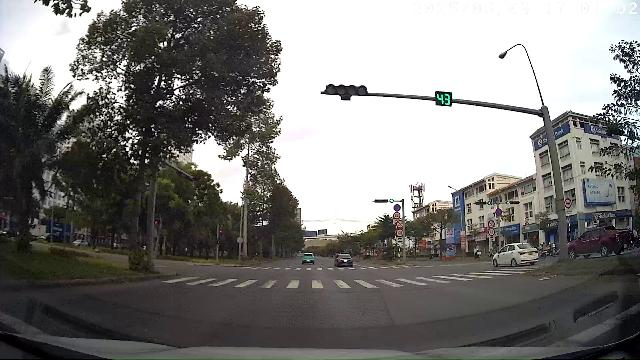127-toc-do-toi-da-60: (396, 230, 404, 236)
127-toc-do-toi-da-80: (394, 212, 401, 218)
130-cam-dung-va-do-xe: (394, 204, 401, 211)
